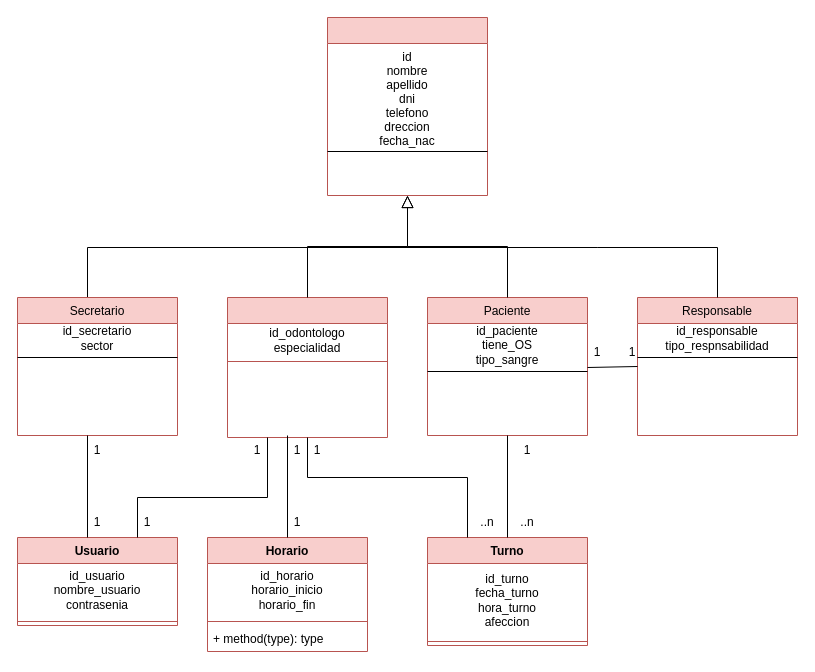
Image size: 815x672. Some labels were removed from this diagram. The box of each missing label's shape, as (x1, y1, x2, y2) in pixels:
Odontólogo: (226, 296, 388, 438)
Persona: (326, 16, 488, 196)
